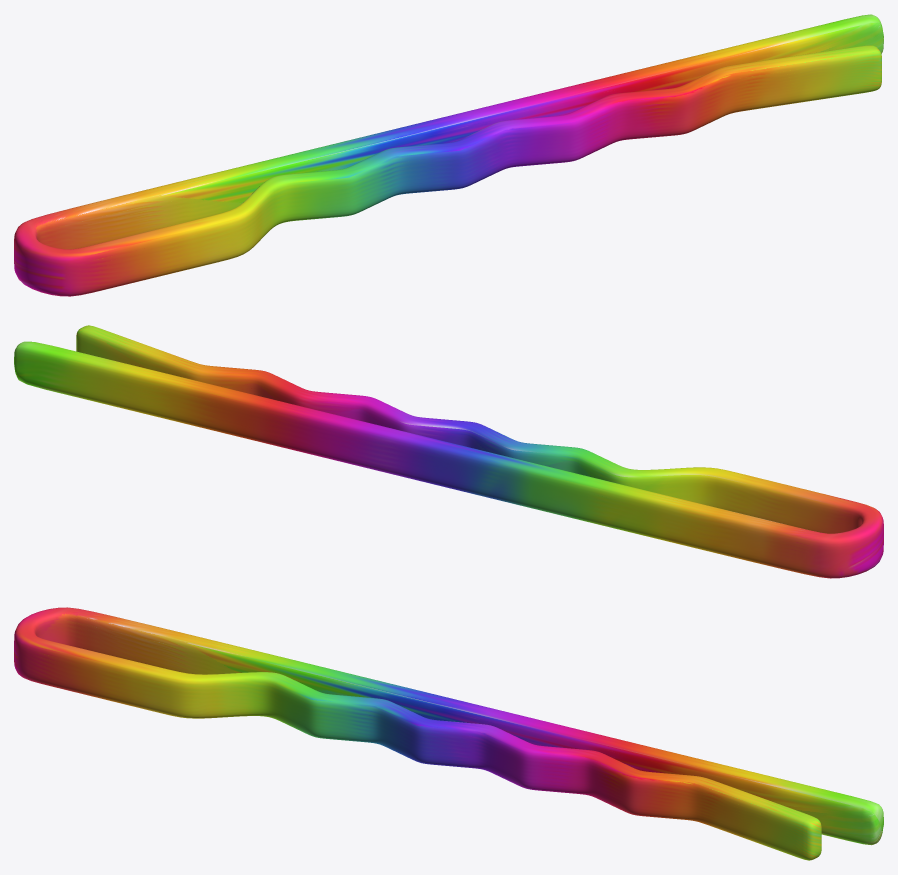
File: bobbyPin.fbx
3 views of the same model, one above another, from view 1: azimuth 30°, elevation 25°; view 2: azimuth 150°, elevation 25°; view 3: azimuth 330°, elevation 25° (orthographic). The views are drawn at different scales.
Parts seen in each view (by area): view 1: 17753_Hairpin_Baby_Owl_v2; view 2: 17753_Hairpin_Baby_Owl_v2; view 3: 17753_Hairpin_Baby_Owl_v2.
Boxes of the visible parts, bbox=[...] form: 17753_Hairpin_Baby_Owl_v2: bbox=[14, 14, 883, 296]; 17753_Hairpin_Baby_Owl_v2: bbox=[14, 325, 883, 578]; 17753_Hairpin_Baby_Owl_v2: bbox=[14, 607, 883, 860].
Size of the model in its own units: 390 by 17.82 by 41.77.
